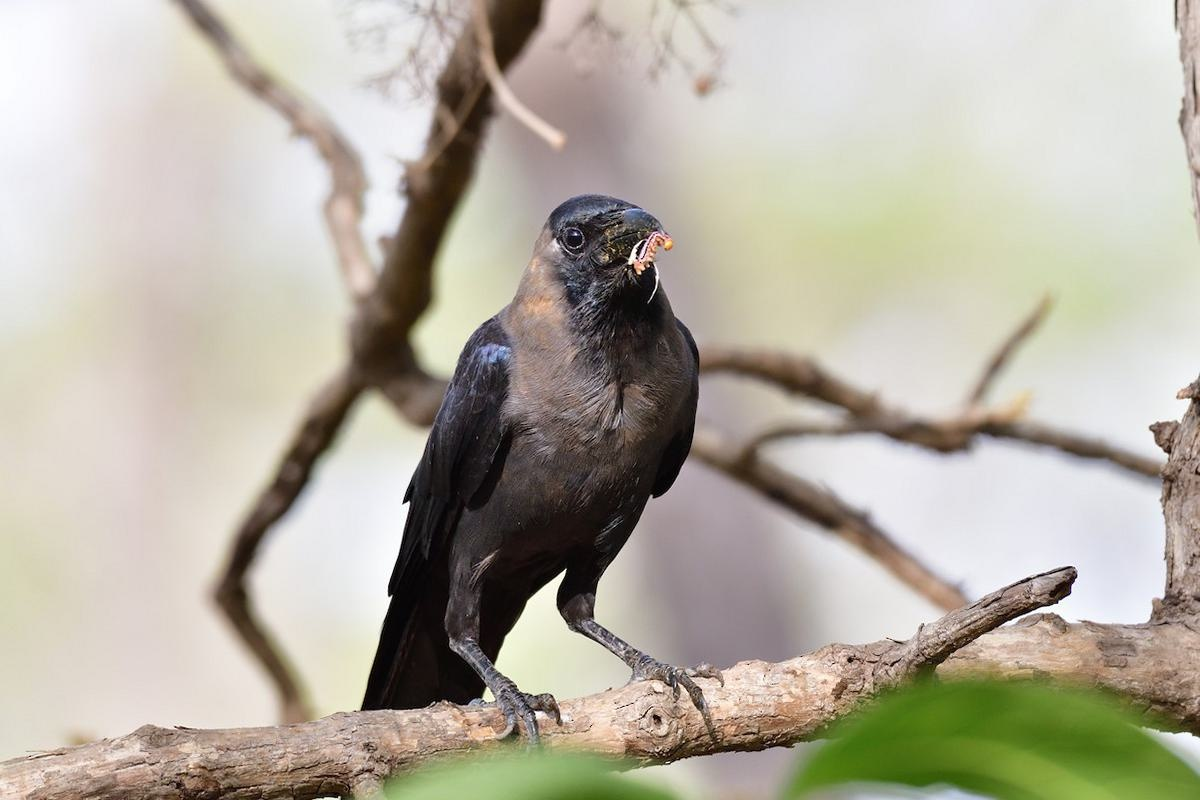crow: (384, 186, 747, 744)
